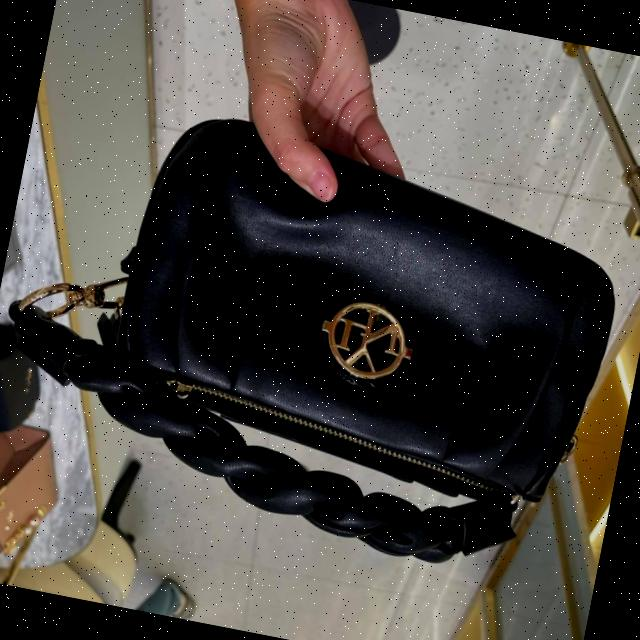Handbag: (77, 105, 636, 546)
